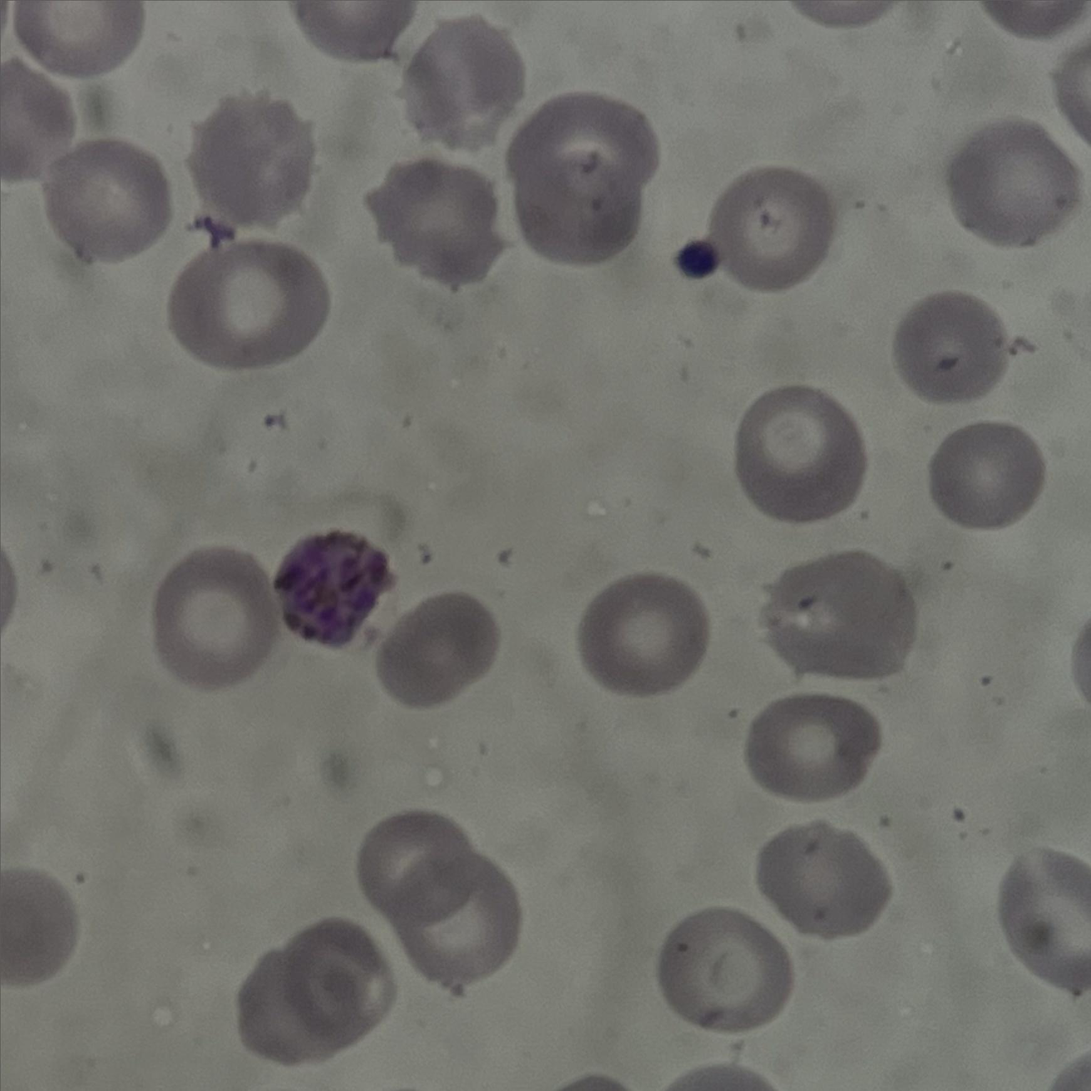Infected: (265, 529, 392, 653)
Uninfected: (165, 239, 328, 369), (760, 550, 916, 682), (364, 157, 508, 288), (732, 386, 868, 523), (185, 91, 319, 227), (150, 549, 279, 690), (943, 122, 1078, 249), (656, 908, 793, 1031), (403, 16, 530, 148), (703, 166, 836, 292), (576, 574, 709, 697), (236, 943, 368, 1066), (512, 92, 658, 203), (754, 821, 888, 941), (395, 862, 522, 984), (510, 145, 637, 265), (744, 693, 881, 801), (376, 593, 501, 710), (46, 146, 174, 258), (997, 846, 1091, 994), (891, 292, 1013, 406), (927, 421, 1044, 529), (355, 813, 475, 918), (286, 924, 387, 1042), (9, 0, 151, 69), (1, 866, 79, 985), (0, 61, 74, 181), (294, 3, 414, 59)
